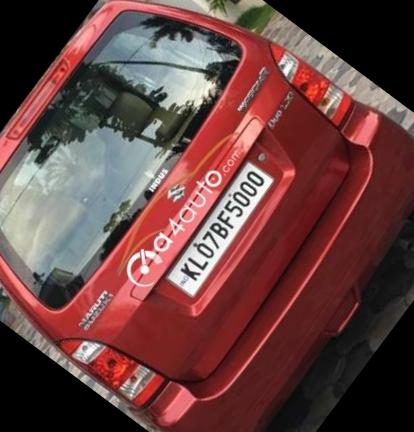plate: (151, 144, 293, 310)
